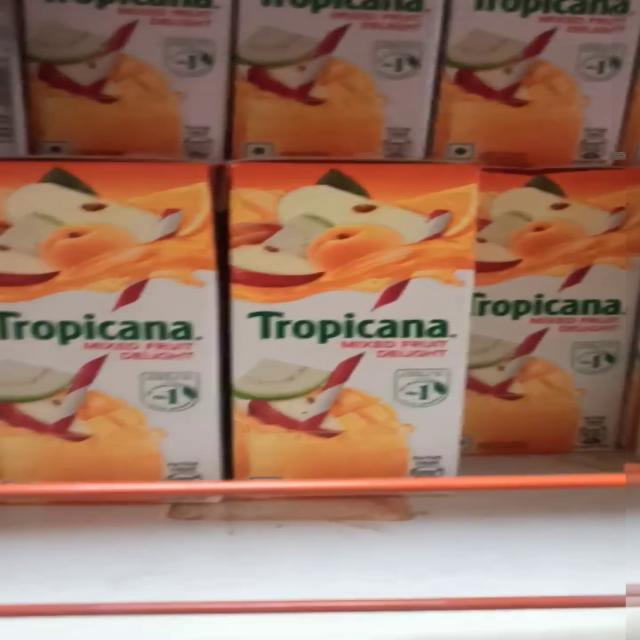Tropicana: (222, 159, 460, 518)
